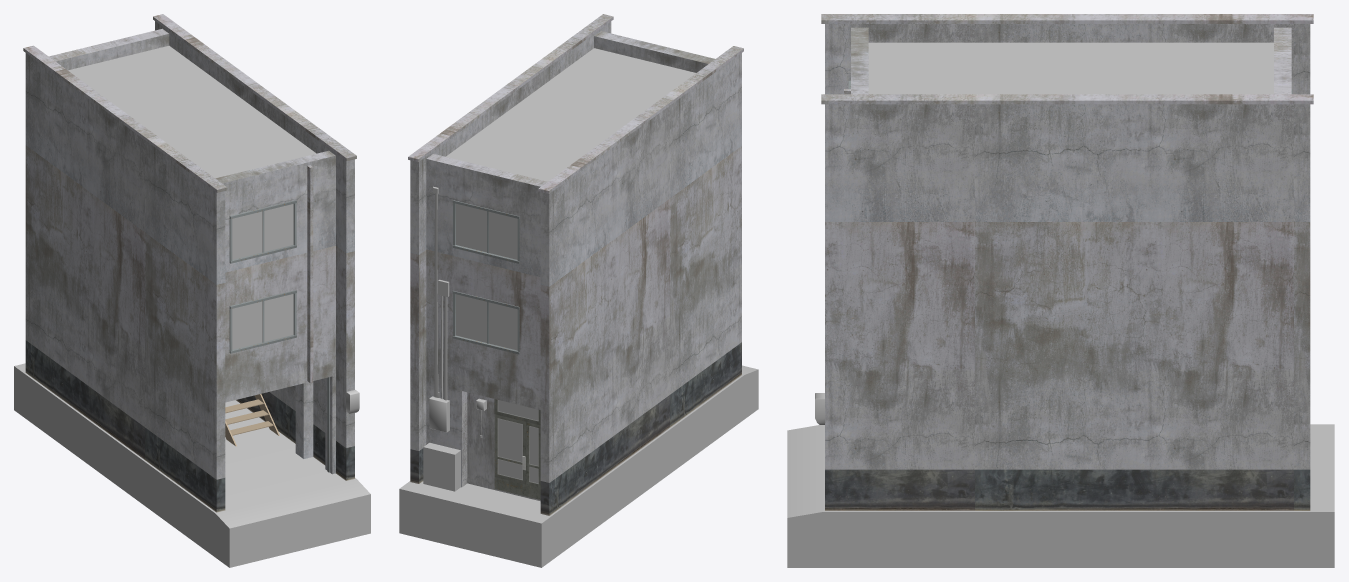
File: mallbil_s_b1a.fbx
3 renders of one model, left to right at view 1: azimuth 30°, elevation 25°; view 2: azimuth 150°, elevation 25°; view 3: azimuth 270°, elevation 25°, orthographic. The views are drawn at different scales.
Visible parts, largest first — view 1: mallbil_s_b1a; view 2: mallbil_s_b1a; view 3: mallbil_s_b1a.
Boxes of the visible parts, bbox=[...] form: mallbil_s_b1a: bbox=[14, 14, 370, 567]; mallbil_s_b1a: bbox=[399, 14, 758, 567]; mallbil_s_b1a: bbox=[787, 14, 1334, 567].
Size of the model in its own units: 433 by 1077 by 1144.
